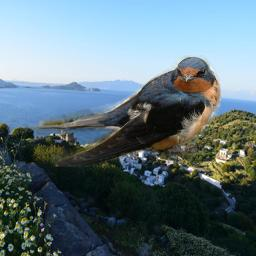Swallow: (20, 55, 221, 167)
